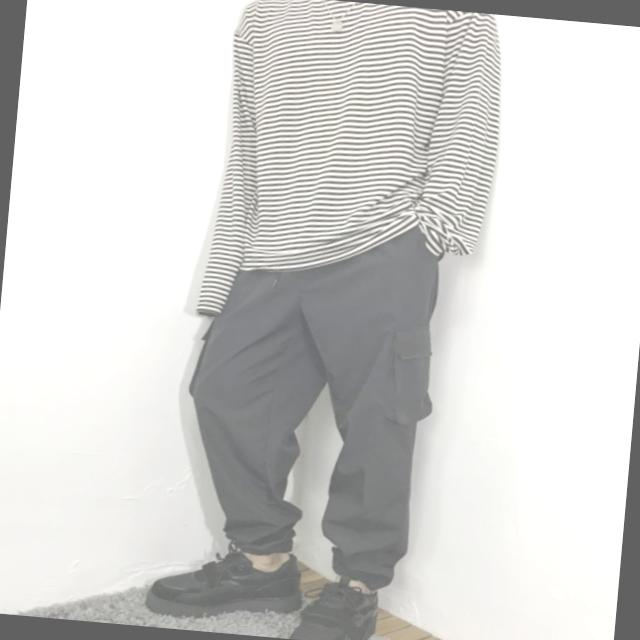cottonpants: (170, 207, 444, 592)
longsleeve: (189, 0, 507, 339)
